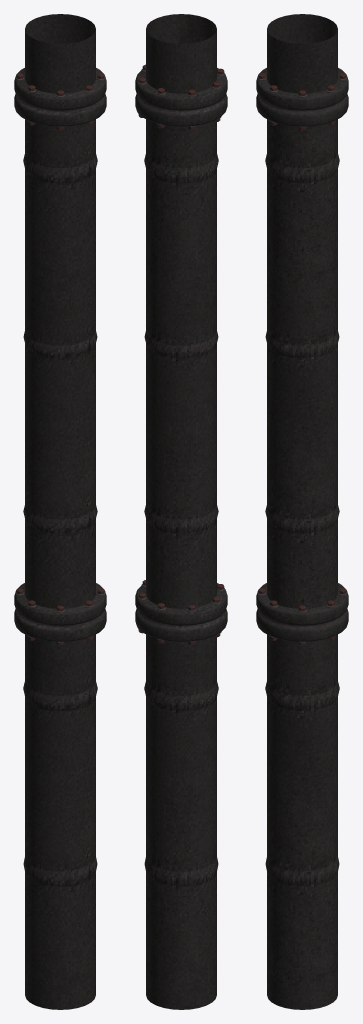
File: pipe_1.glb
3 views of the same model, side by side, from view 1: azimuth 90°, elevation 25°; view 2: azimuth 150°, elevation 25°; view 3: azimuth 270°, elevation 25° (orthographic).
Parts seen in each view (by area): view 1: pipe_1; view 2: pipe_1; view 3: pipe_1.
Boxes of the visible parts, box(x1,y1,x2,y2) form: pipe_1: box(14, 14, 106, 1009); pipe_1: box(135, 14, 227, 1009); pipe_1: box(256, 14, 348, 1009).
Size of the model in its own units: 0.26 by 3 by 0.26.
3 materials, 3 textured.
